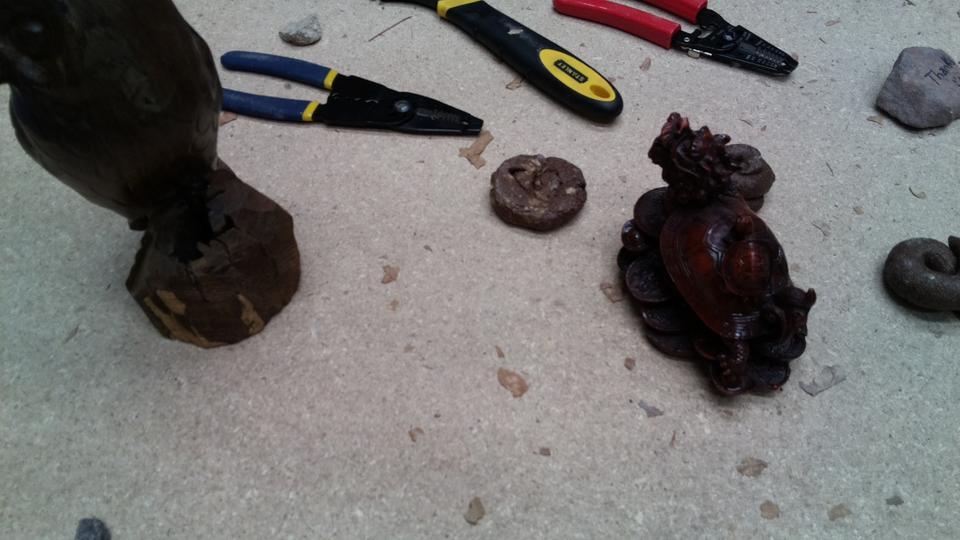poop: (486, 151, 589, 235), (878, 233, 960, 322), (718, 140, 779, 217)
